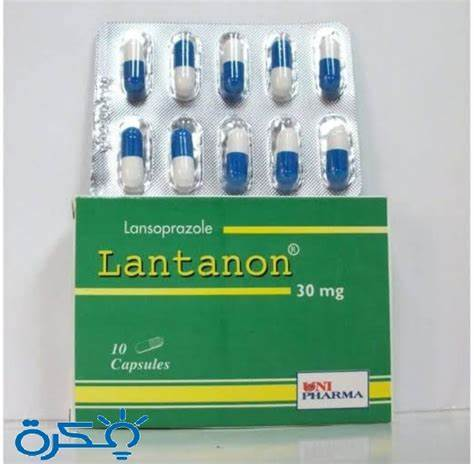Medicine: (68, 190, 399, 436)
